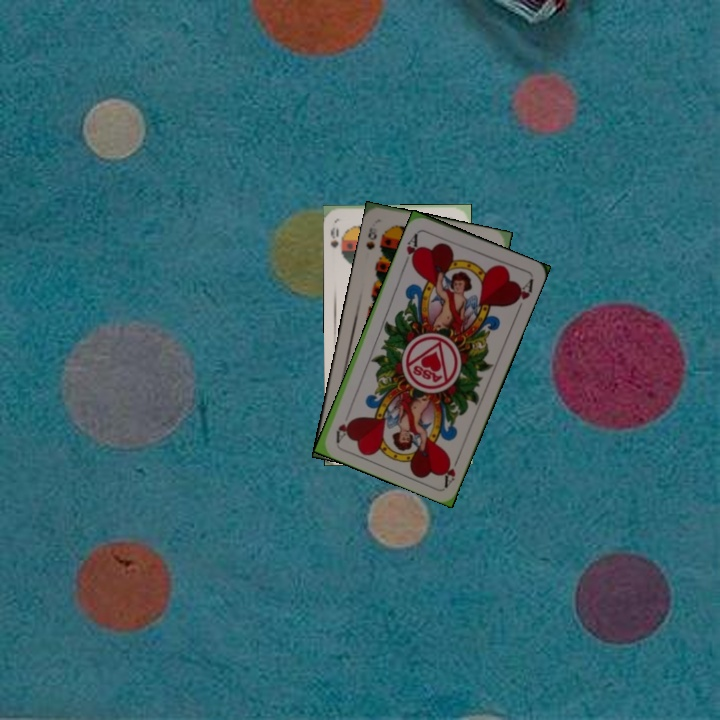HA: (439, 449, 463, 488), (400, 228, 422, 269)
S8: (362, 223, 379, 252)
SO: (327, 223, 341, 250)
